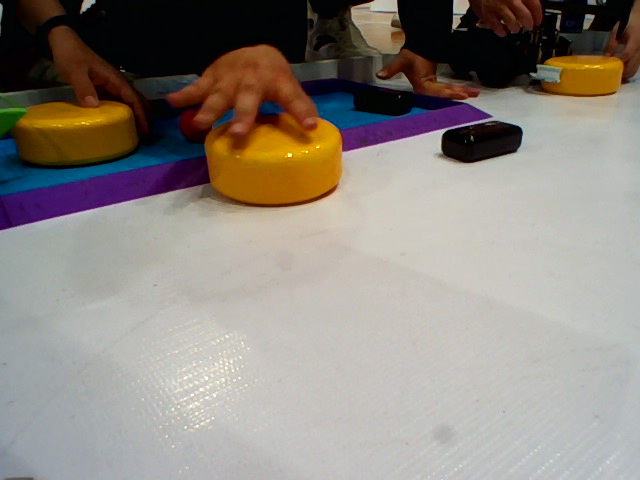black: (430, 122, 545, 175), (347, 86, 413, 117)
kuang: (1, 72, 517, 251)
yellow: (189, 112, 359, 202), (11, 96, 153, 161), (527, 52, 632, 110)
